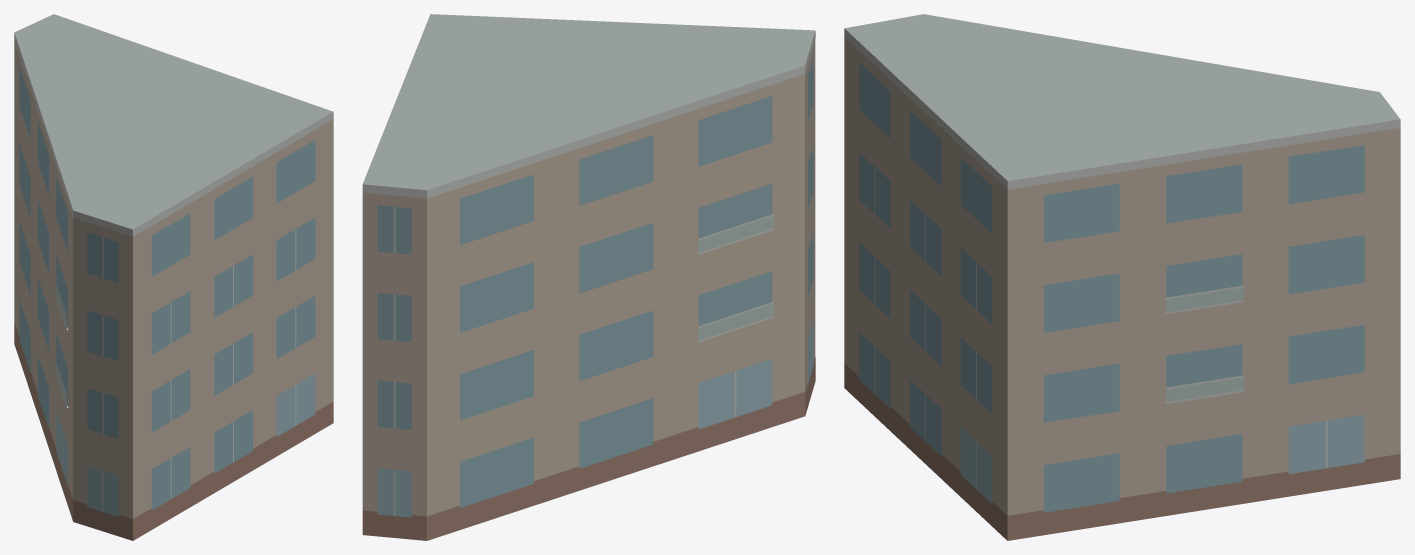
File: survey-upis-32584557.glb
3 renders of one model, left to right at view 1: azimuth 30°, elevation 25°; view 2: azimuth 150°, elevation 25°; view 3: azimuth 270°, elevation 25°, orthographic. The views are drawn at different scales.
Parts seen in each view (by area): view 1: survey-upis-32584557.tmp; view 2: survey-upis-32584557.tmp; view 3: survey-upis-32584557.tmp.
Part boxes in pixels (bbox=[...]): survey-upis-32584557.tmp: bbox=[14, 14, 333, 540]; survey-upis-32584557.tmp: bbox=[362, 14, 815, 540]; survey-upis-32584557.tmp: bbox=[844, 14, 1400, 540].
Size of the model in its own units: 10.38 by 10.4 by 14.58.
